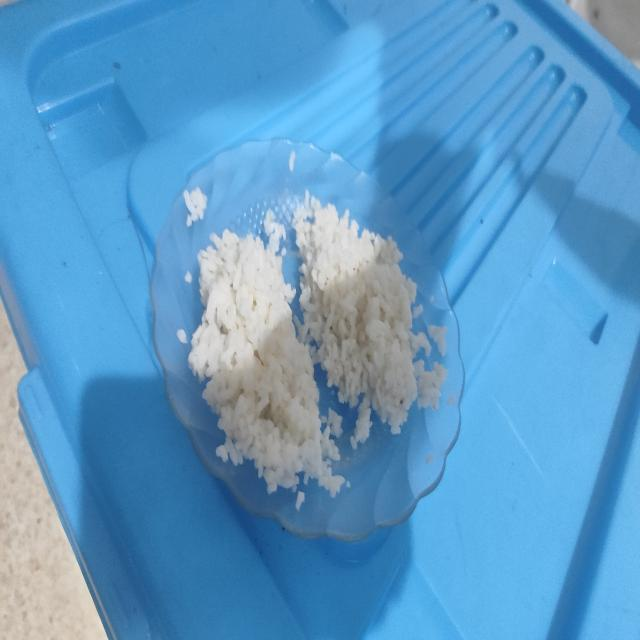nasi_putih: (188, 211, 342, 496), (293, 190, 447, 444)
